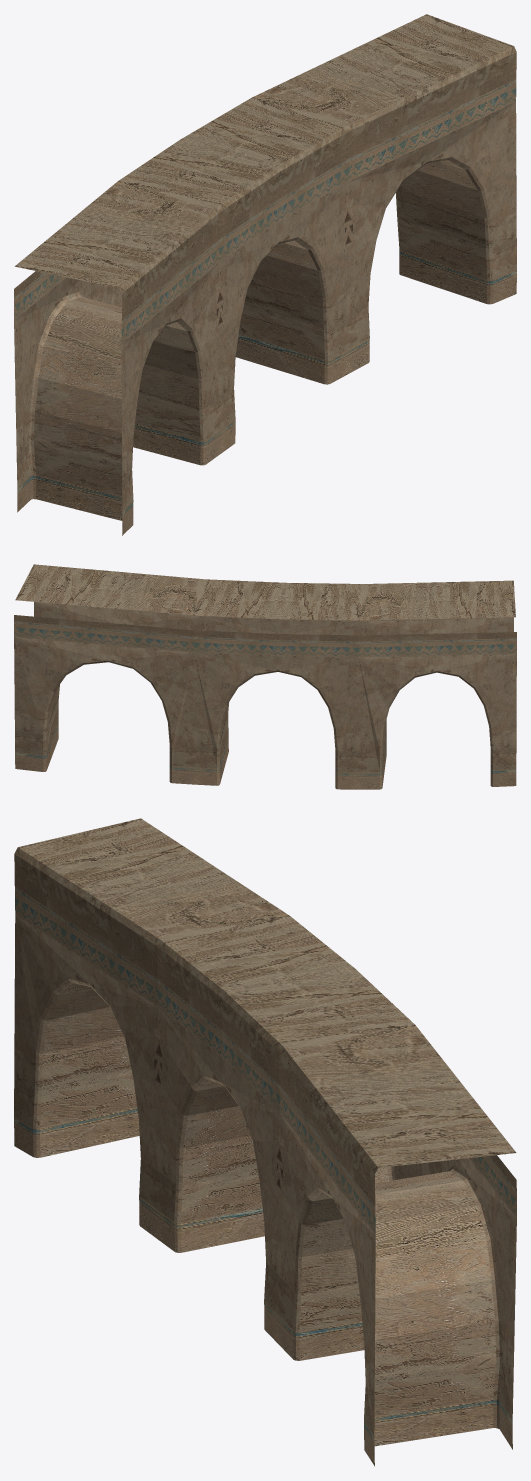
File: wall1.fbx
3 views of the same model, one above another, from view 1: azimuth 30°, elevation 25°; view 2: azimuth 150°, elevation 25°; view 3: azimuth 270°, elevation 25° (orthographic). The views are drawn at different scales.
Parts seen in each view (by area): view 1: LV_Arena_Object_Wall03_SM_LSJ; view 2: LV_Arena_Object_Wall03_SM_LSJ; view 3: LV_Arena_Object_Wall03_SM_LSJ.
Boxes of the visible parts, left/top/right/bottom form: LV_Arena_Object_Wall03_SM_LSJ: left=14, top=14, right=516, bottom=535; LV_Arena_Object_Wall03_SM_LSJ: left=14, top=564, right=516, bottom=789; LV_Arena_Object_Wall03_SM_LSJ: left=14, top=818, right=516, bottom=1466.
Bounding box in the file's own units: 7.47 × 2.94 × 4.49.
